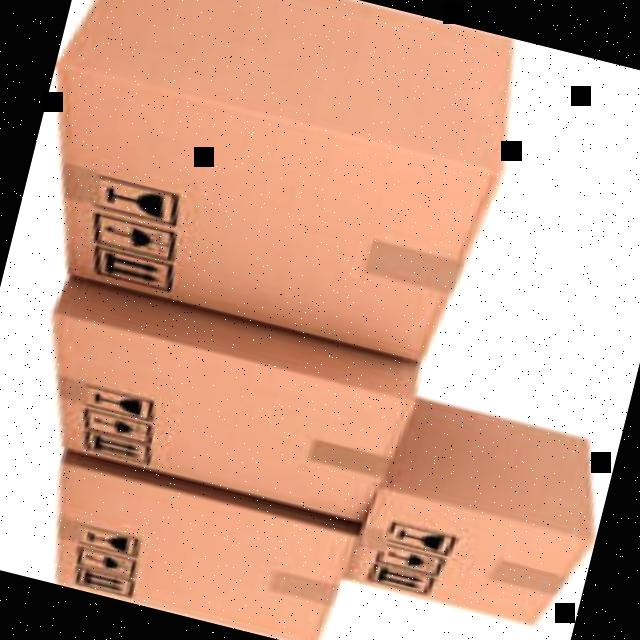cardboard_box: (16, 0, 523, 375), (14, 238, 432, 538), (350, 374, 618, 630), (28, 442, 354, 640)
